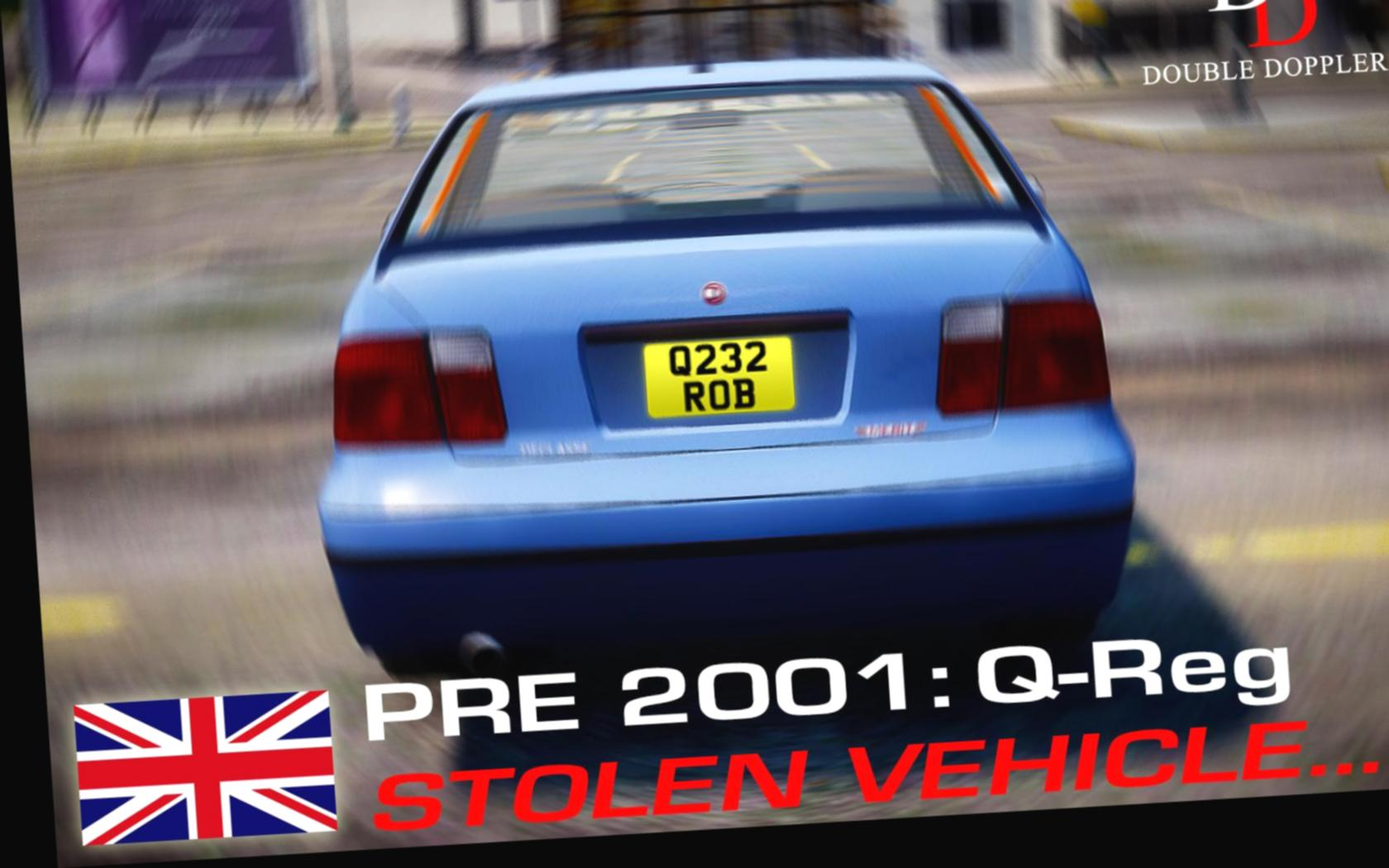License_Plate: (623, 323, 812, 440)
